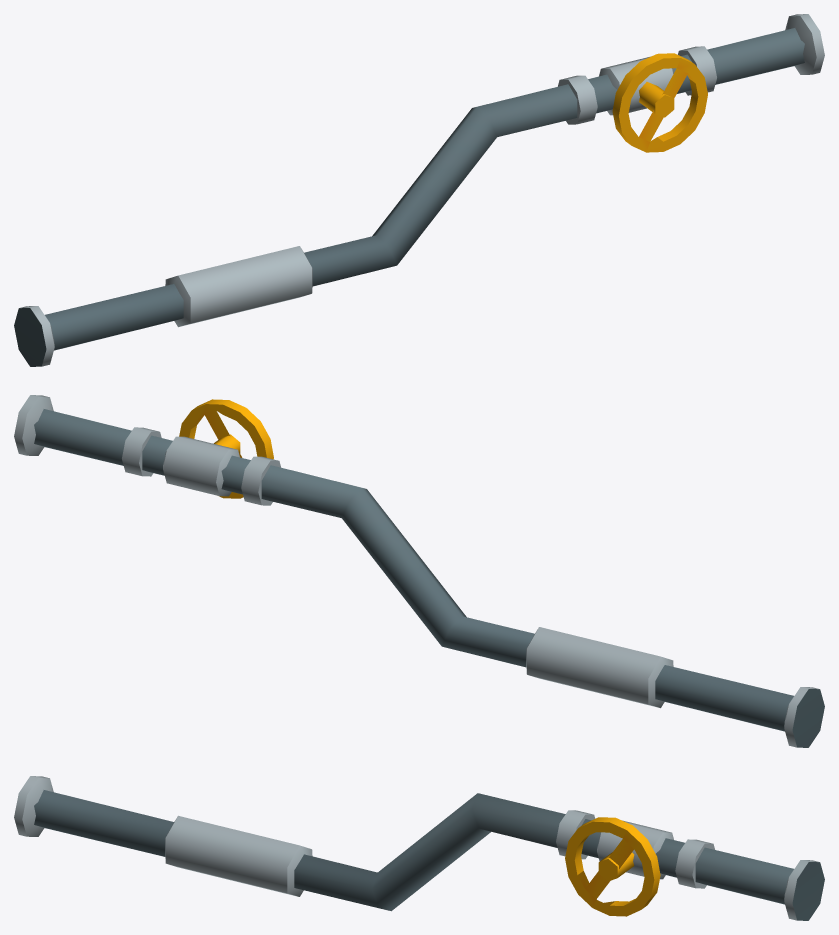
File: Pipe_006.glb
3 views of the same model, one above another, from view 1: azimuth 30°, elevation 25°; view 2: azimuth 150°, elevation 25°; view 3: azimuth 330°, elevation 25° (orthographic).
Parts seen in each view (by area): view 1: Pipe_006; view 2: Pipe_006; view 3: Pipe_006.
Part boxes in pixels (x1,y1,x2,y2): Pipe_006: [14, 14, 824, 366]; Pipe_006: [14, 395, 824, 747]; Pipe_006: [14, 776, 824, 920].
Bounding box in the file's own units: 3.52 × 0.7799 × 0.3498.
Materials: 1 (1 with a texture image).
